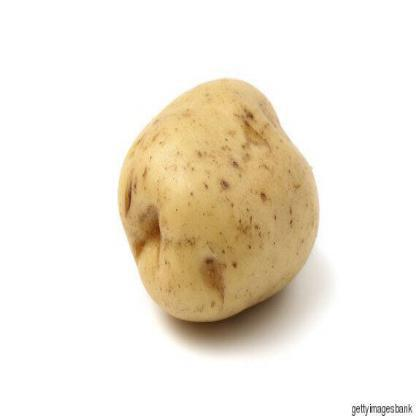potato: (104, 59, 344, 326)
